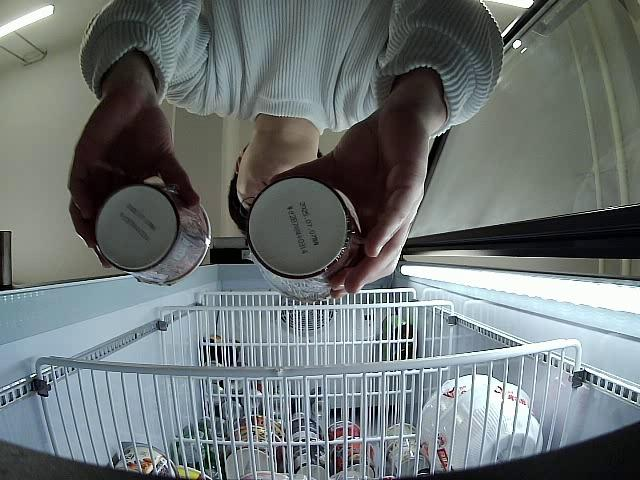00_hand: (271, 104, 426, 299), (68, 96, 199, 268)
06_nuguri_S: (246, 176, 362, 302), (94, 181, 211, 286)
